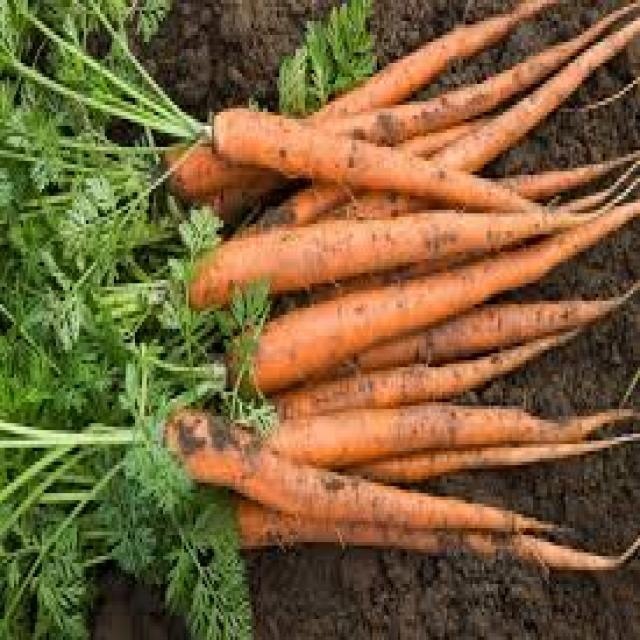Stale_Carrot: (0, 0, 573, 325), (154, 410, 559, 525)
